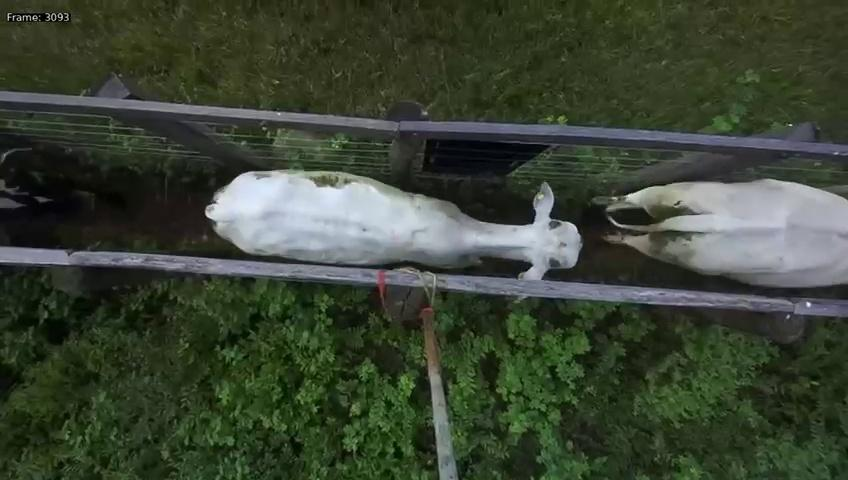cattle: (200, 156, 600, 288)
